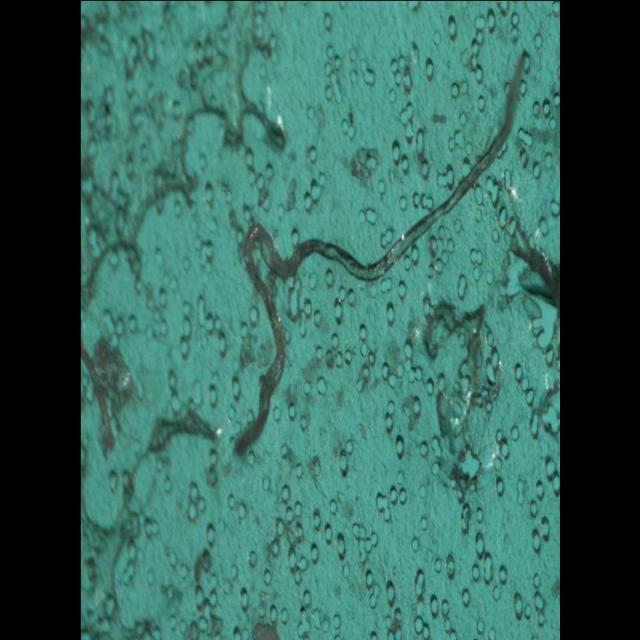Fibre: (230, 44, 532, 458)
